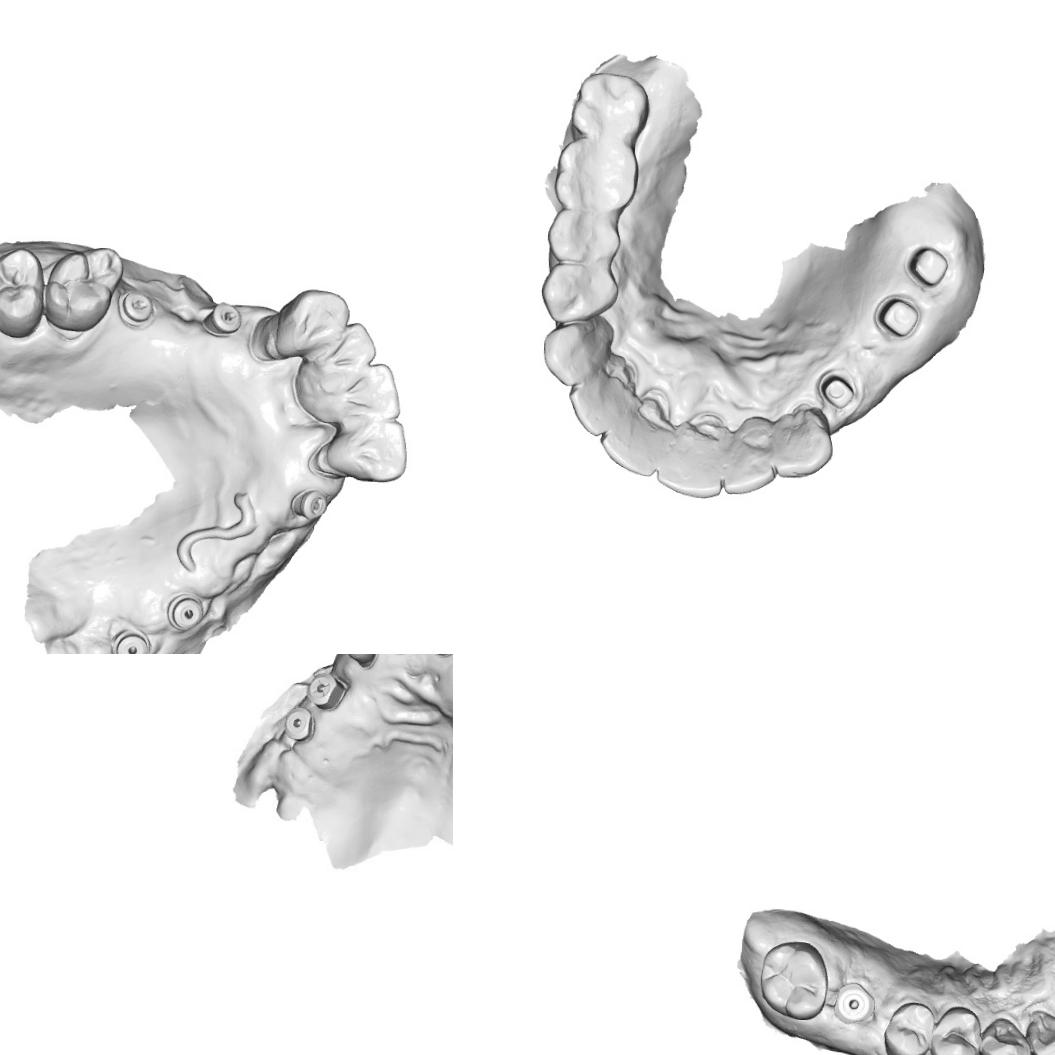abutment: (873, 292, 923, 343), (904, 241, 952, 290), (815, 368, 858, 414)
canine: (540, 316, 615, 391), (771, 416, 835, 481), (978, 1016, 1030, 1055)
implant: (167, 592, 207, 632), (834, 984, 873, 1024), (285, 707, 318, 741), (113, 627, 151, 654)
implant_minus: (291, 488, 330, 520), (206, 304, 242, 336), (124, 292, 156, 322)
implant_plus: (307, 671, 343, 712)
incisor: (321, 416, 410, 484), (272, 285, 353, 358), (652, 436, 731, 500), (327, 358, 404, 422), (720, 427, 778, 498), (565, 376, 628, 439), (597, 417, 659, 478), (316, 319, 378, 368), (1023, 1009, 1055, 1055)
molar: (42, 244, 126, 334), (551, 134, 641, 215), (755, 938, 832, 1022), (567, 69, 652, 142), (0, 244, 46, 339)
premolar: (536, 256, 622, 328), (545, 204, 624, 266), (879, 999, 935, 1055), (930, 1004, 982, 1055)
